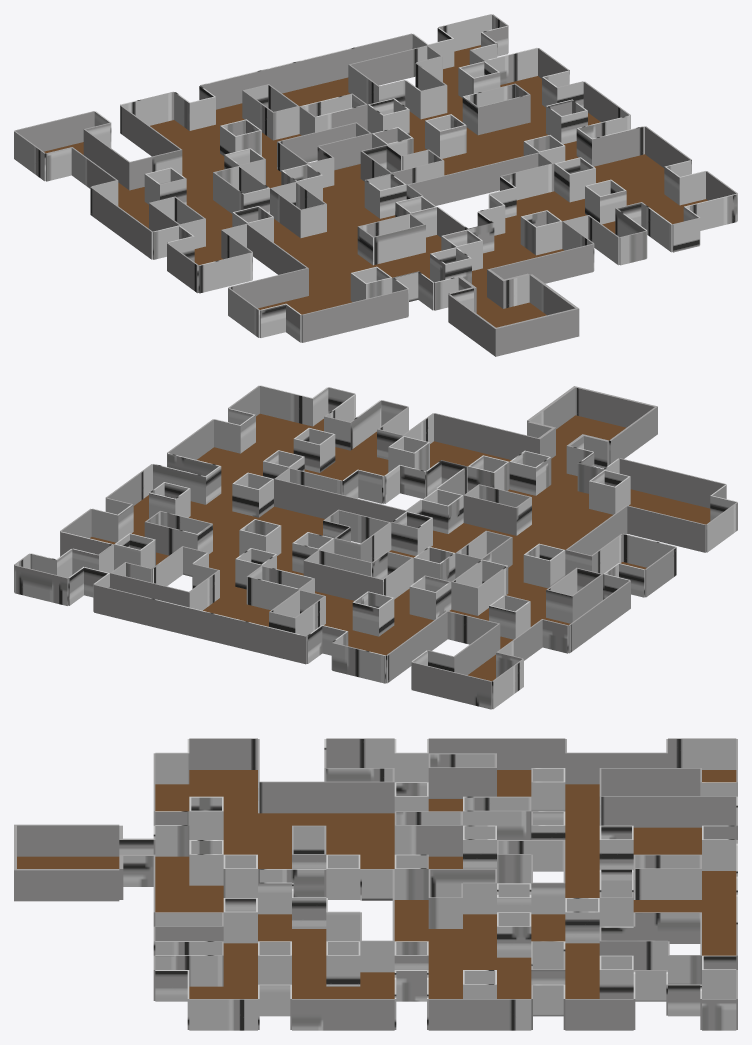
The model's file is Dungeon 1.fbx.
3 views of the same model, one above another, from view 1: azimuth 30°, elevation 25°; view 2: azimuth 150°, elevation 25°; view 3: azimuth 270°, elevation 25° (orthographic). The views are drawn at different scales.
Parts seen in each view (by area): view 1: Plane.001; view 2: Plane.001; view 3: Plane.001.
Part boxes in pixels (x1,y1,x2,y2): Plane.001: (14, 14, 737, 356); Plane.001: (14, 385, 737, 709); Plane.001: (14, 738, 737, 1030).
Bounding box in the file's own units: 3620 × 200 × 4237.
